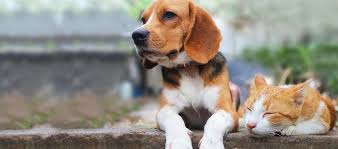cat: (237, 74, 309, 142)
dog: (128, 1, 223, 72)
